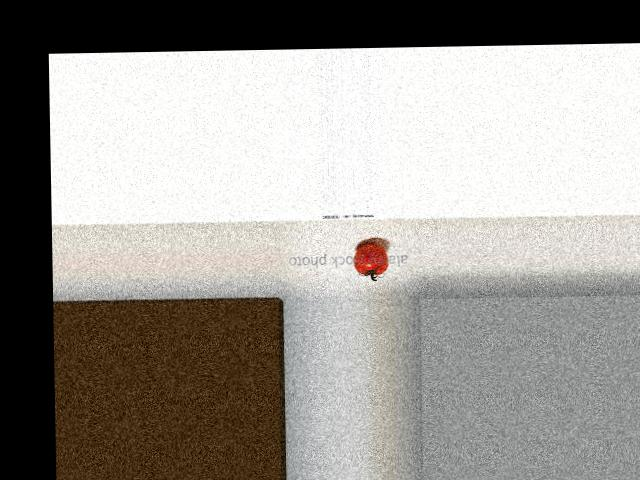tomato: (352, 243, 388, 275)
